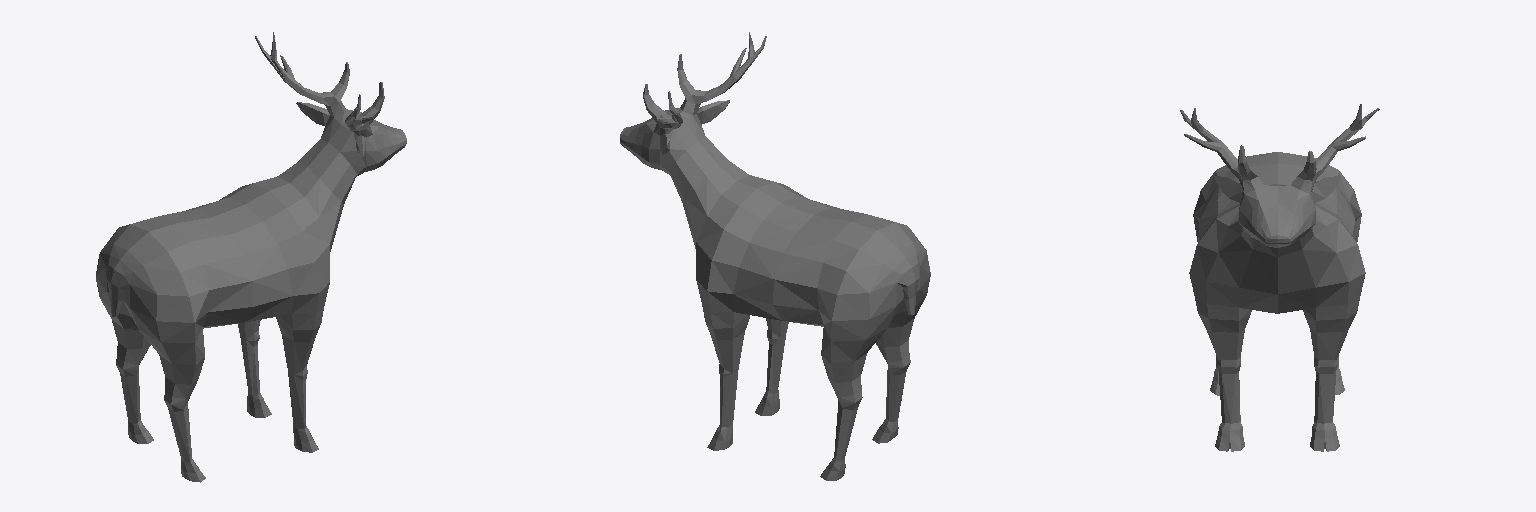
The model's file is deer.obj.
The picture shows the model from 3 angles: view 1: azimuth 30°, elevation 25°; view 2: azimuth 150°, elevation 25°; view 3: azimuth 270°, elevation 25°; orthographic projection.
Parts seen in each view (by area): view 1: deer:deer___UN; view 2: deer:deer___UN; view 3: deer:deer___UN.
Boxes of the visible parts, <box> form: deer:deer___UN: <box>96,32,406,482</box>; deer:deer___UN: <box>620,32,930,480</box>; deer:deer___UN: <box>1180,104,1379,451</box>.
Size of the model in its own units: 4.11 by 4.84 by 2.44.